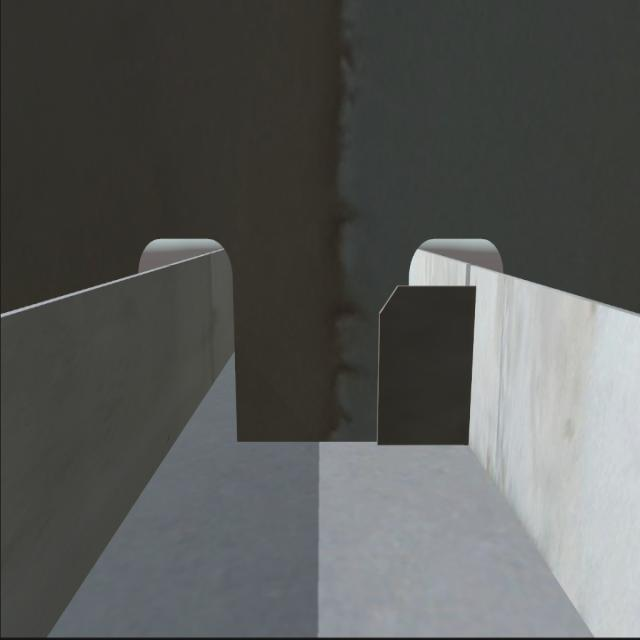fillet_yong_jeop_jang: (230, 428, 478, 455)
longi_yong_jeop_jang: (466, 281, 482, 448)
plate_CP03: (377, 277, 472, 449)
